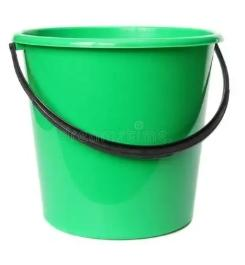SEAU: (0, 8, 245, 265)
